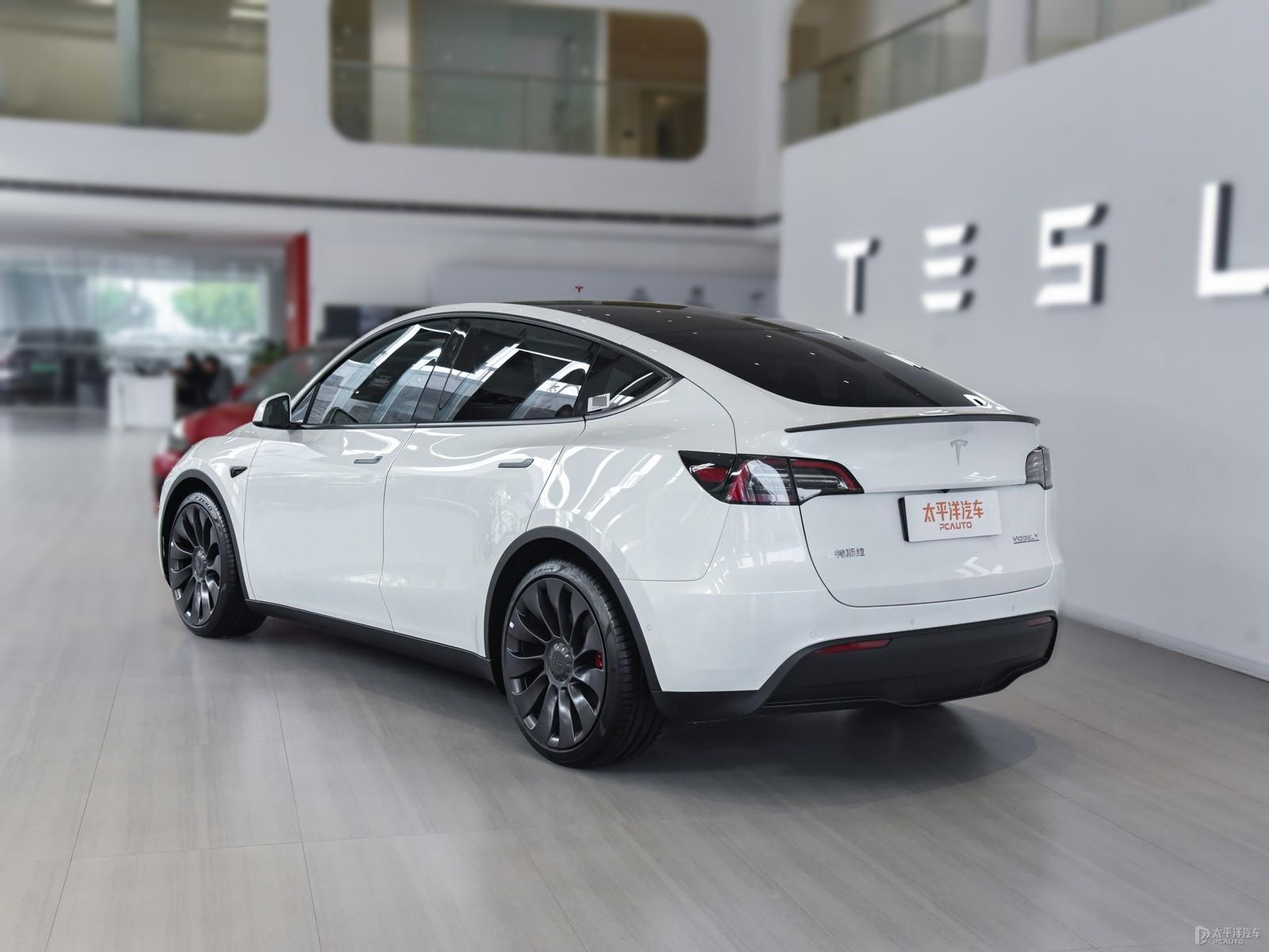Tesla: (950, 436, 969, 466)
